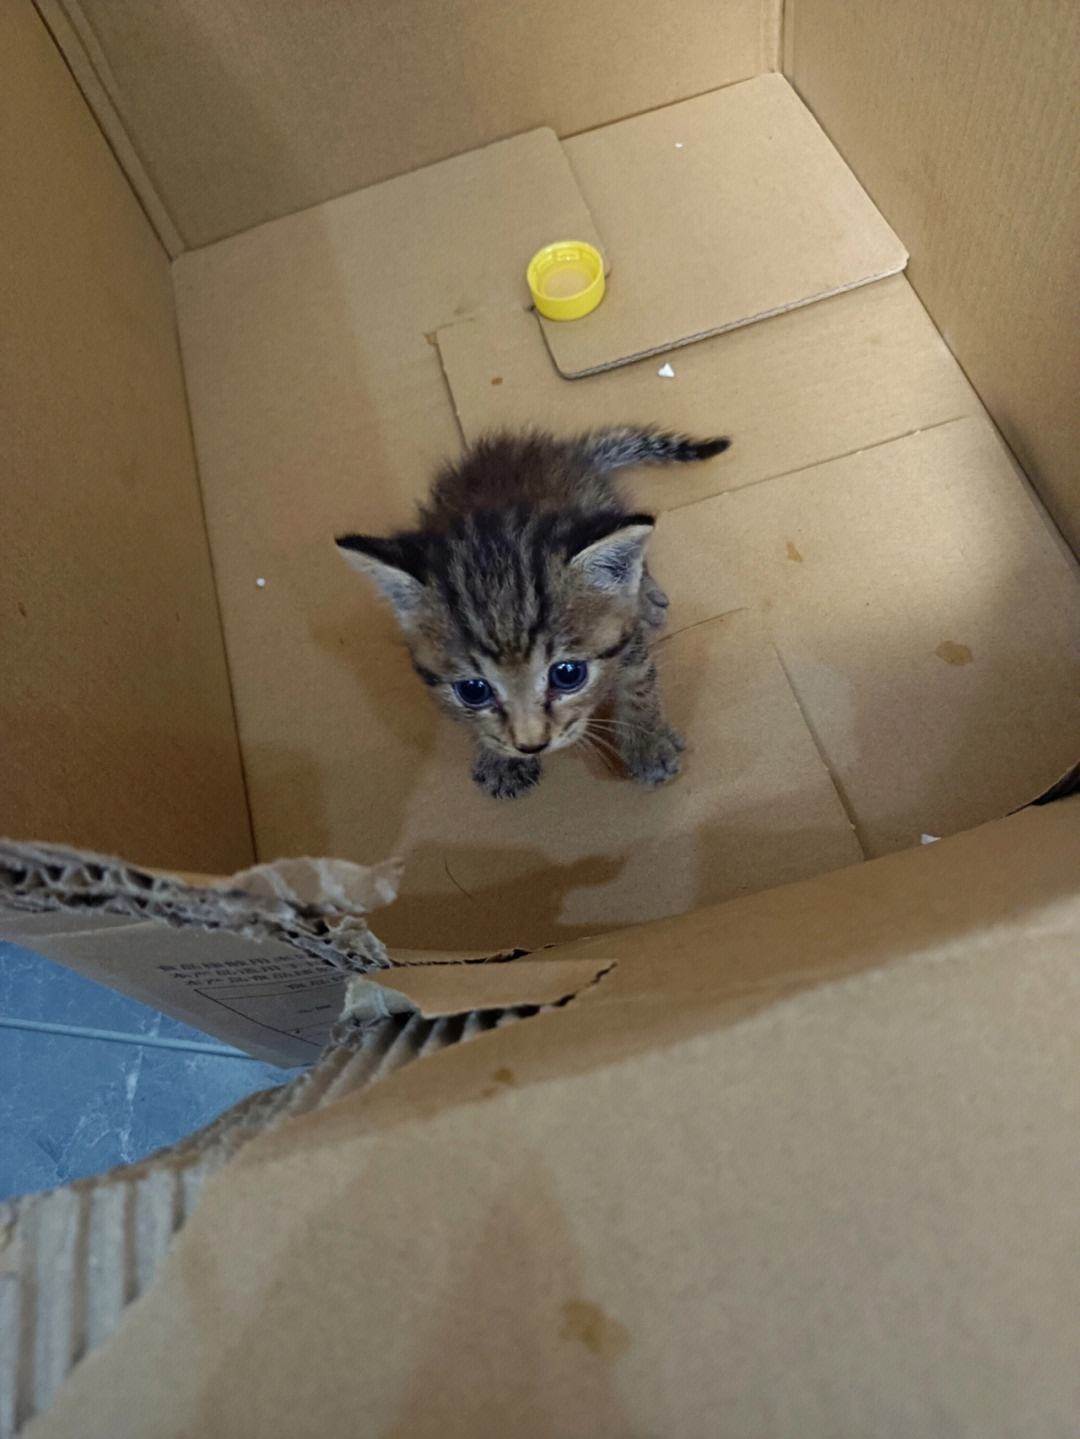cat: (332, 423, 734, 799)
